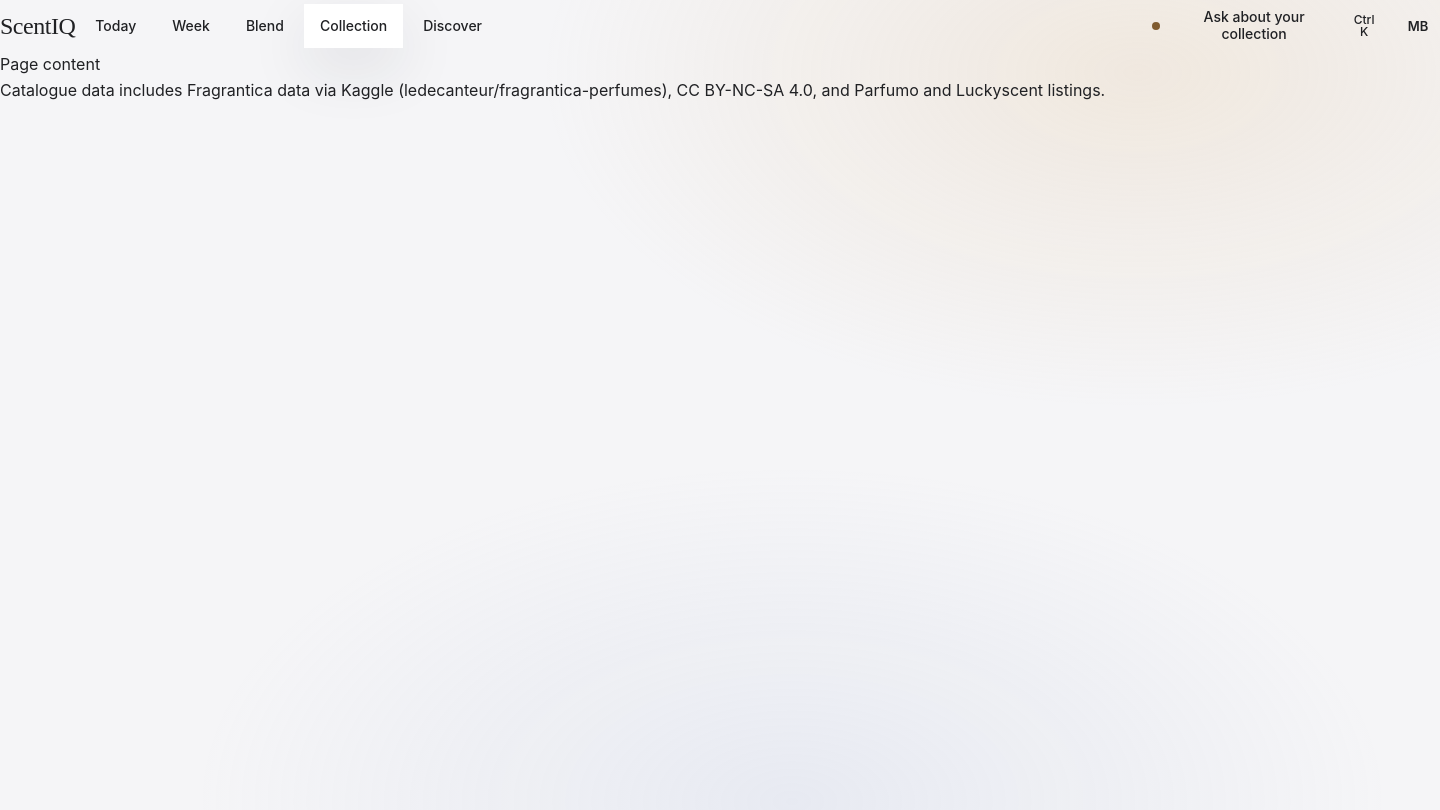
Test: AtelierShell › opens the Ask panel from Ask
This screenshot has width=1440, height=810.
Click the button "Ask about your collection Ctrl K" at [1266, 26], box [1136,4,1396,48]
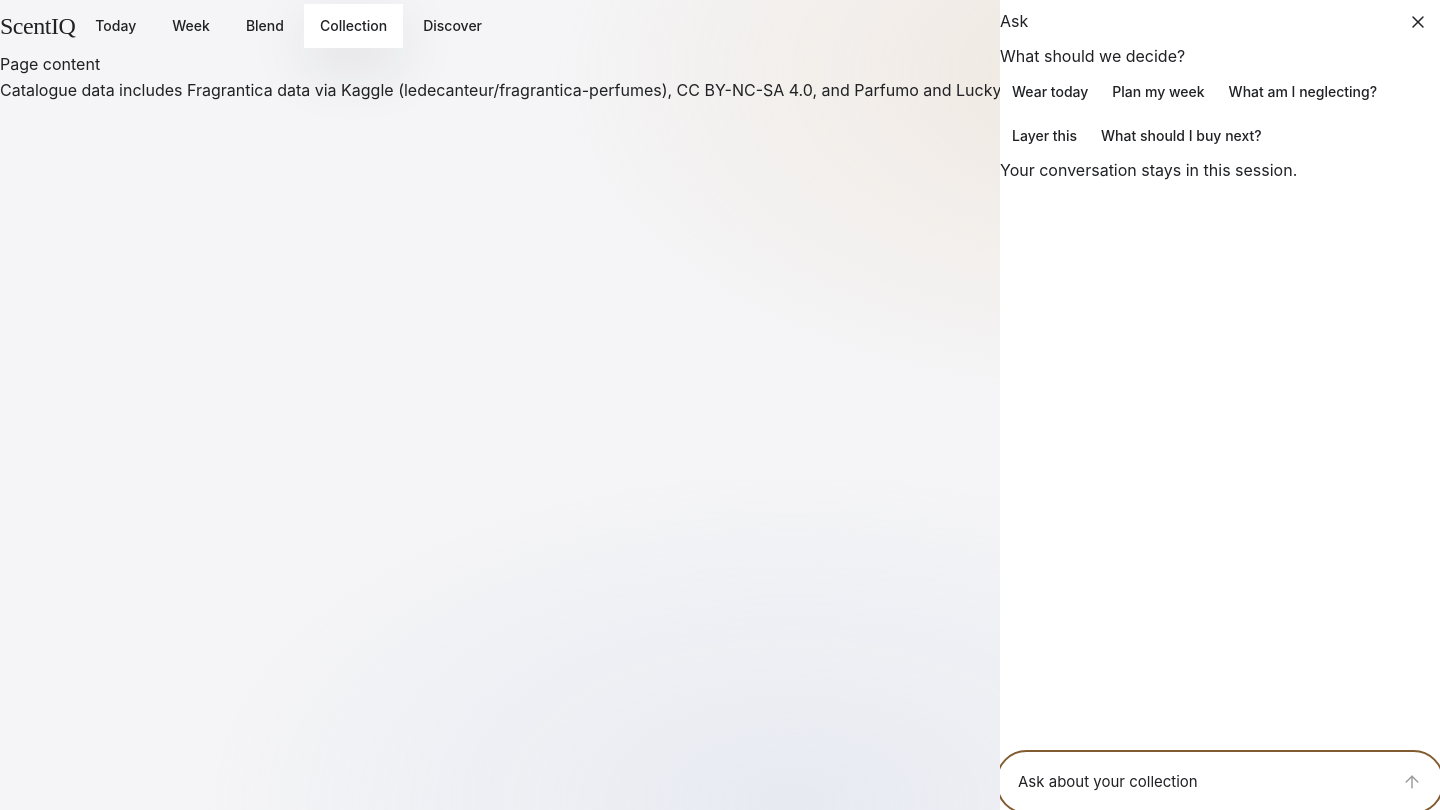
Check: the dialog "Ask" is shown, box [1000,0,1439,809]
